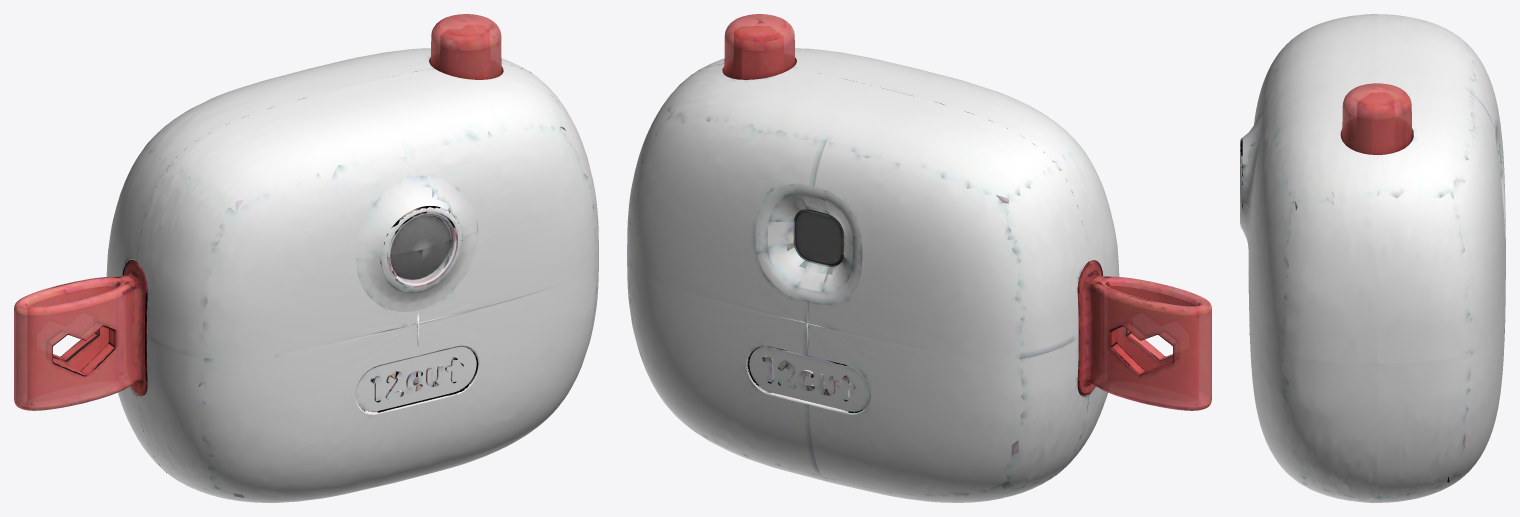
Rendered from product-textured.glb.
The picture shows the model from 3 angles, left to right: view 1: azimuth 30°, elevation 25°; view 2: azimuth 150°, elevation 25°; view 3: azimuth 270°, elevation 25°; orthographic projection.
Visible parts, largest first — view 1: empty_10; view 2: empty_10; view 3: empty_10.
Boxes of the visible parts, x1,y1,x2,y2 form: empty_10: (14,14,598,502); empty_10: (627,14,1211,502); empty_10: (1240,14,1505,502).
Size of the model in its own units: 1 by 0.7167 by 0.422.
Materials: 10 (10 with a texture image).
